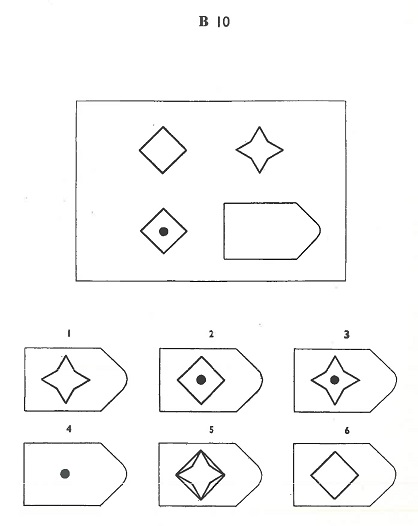Array 1: (20, 325, 131, 416)
Array 2: (156, 326, 266, 416)
Array 3: (290, 325, 401, 417)
Array 4: (19, 419, 131, 510)
Array 5: (155, 421, 267, 509)
Array 6: (290, 423, 400, 511)
Matrix 1: (132, 120, 192, 178)
Matrix 2: (229, 121, 287, 179)
Matrix 3: (134, 198, 190, 258)
Matrix Unknown: (219, 197, 323, 264)
